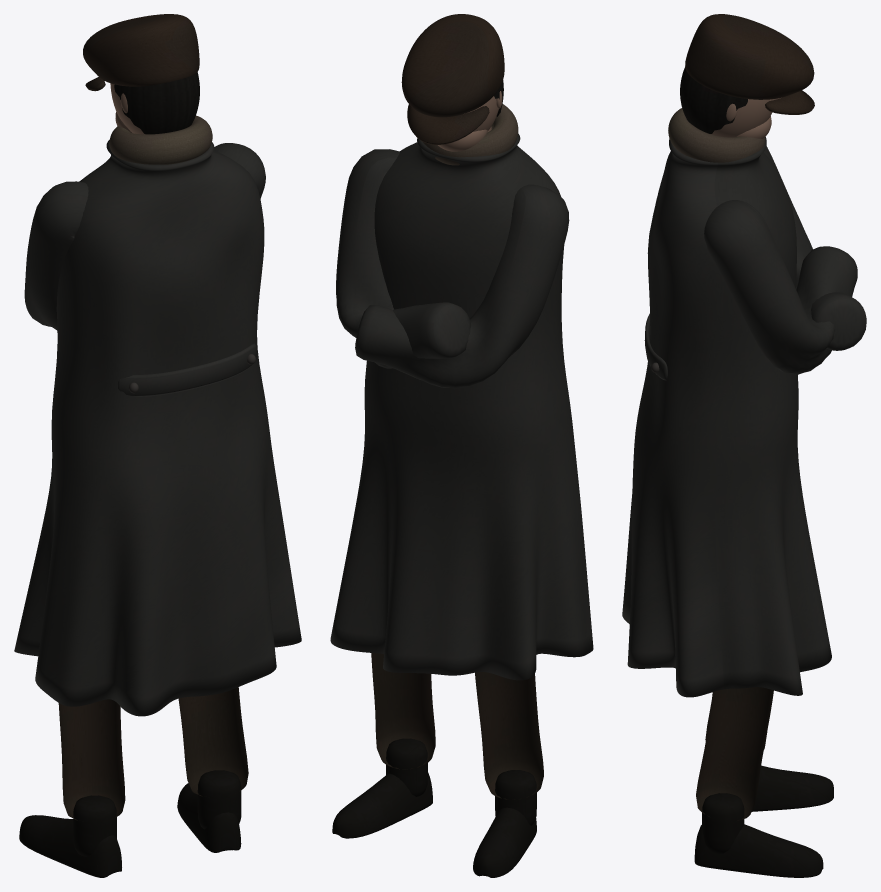
File: worker-arms-folded.glb
3 views of the same model, side by side, from view 1: azimuth 30°, elevation 25°; view 2: azimuth 150°, elevation 25°; view 3: azimuth 270°, elevation 25° (orthographic). The views are drawn at different scales.
Parts seen in each view (by area): view 1: worker-arms-folded-body; view 2: worker-arms-folded-body; view 3: worker-arms-folded-body.
Part boxes in pixels (box(x1,y1,x2,y2)): worker-arms-folded-body: box(14, 14, 301, 877); worker-arms-folded-body: box(330, 14, 593, 877); worker-arms-folded-body: box(622, 14, 866, 877).
Bounding box in the file's own units: 0.5291 × 1.72 × 0.4698.
8 materials, 6 textured.
